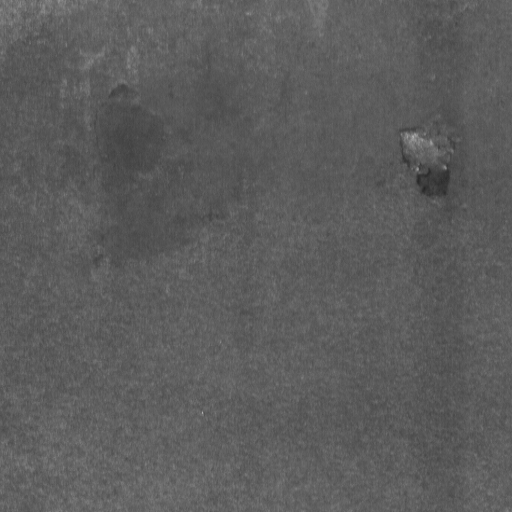qiaopi: (397, 121, 458, 203)
